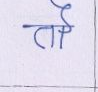au_matra: (55, 0, 72, 48)
